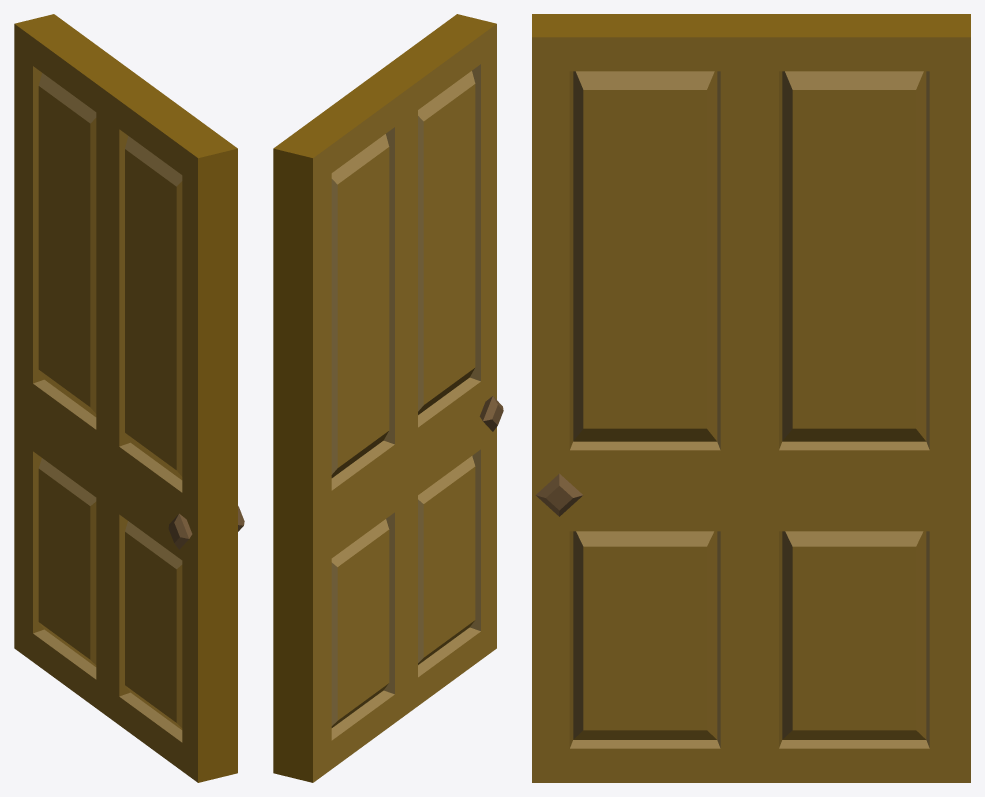
The picture shows the model from 3 angles, left to right: view 1: azimuth 30°, elevation 25°; view 2: azimuth 150°, elevation 25°; view 3: azimuth 270°, elevation 25°; orthographic projection. The views are drawn at different scales.
Size of the model in its own units: 26 by 240 by 128.
Materials: 1 (1 with a texture image).
